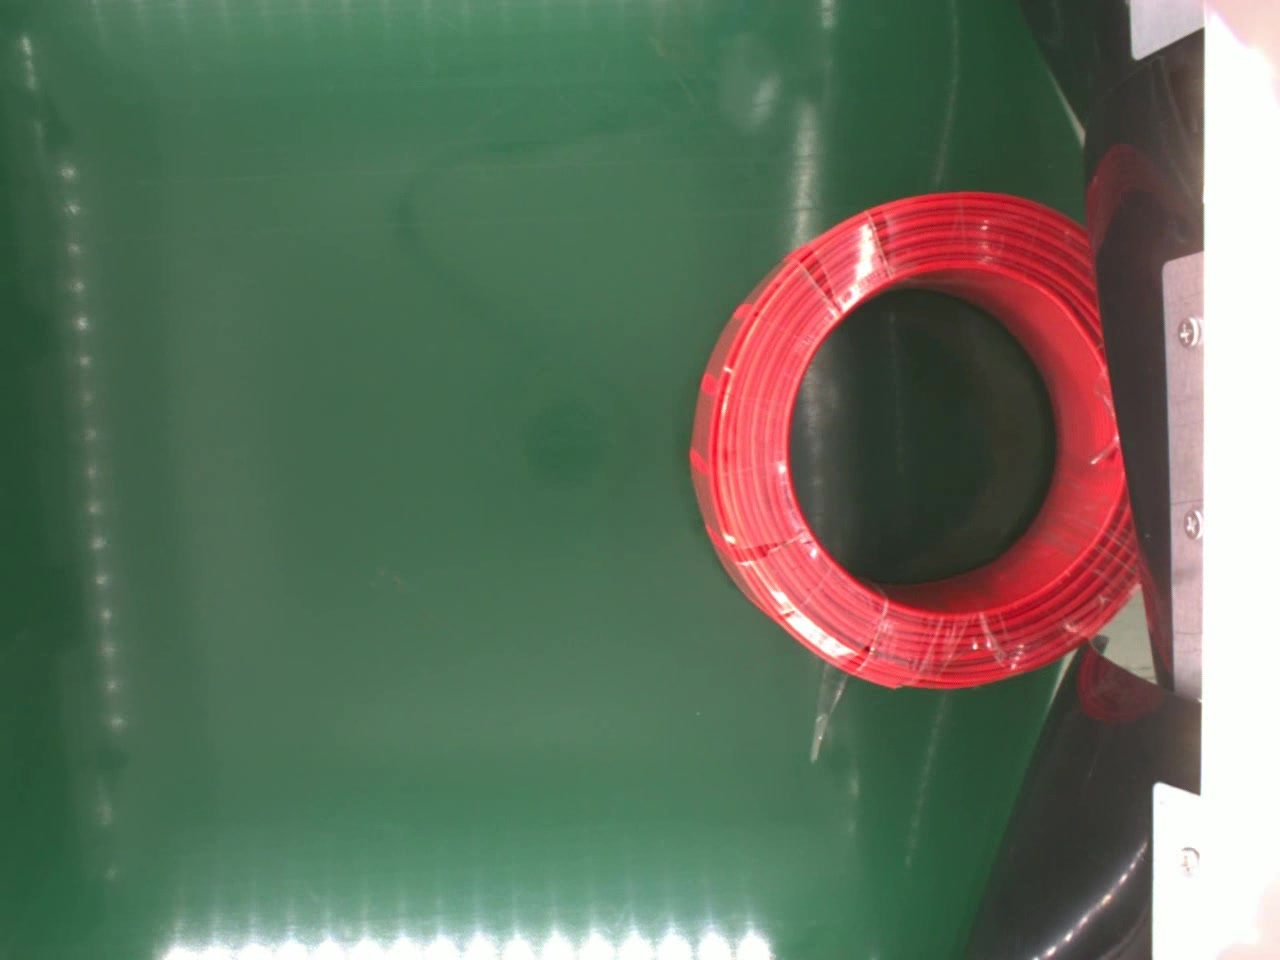red: (690, 186, 1141, 690)
